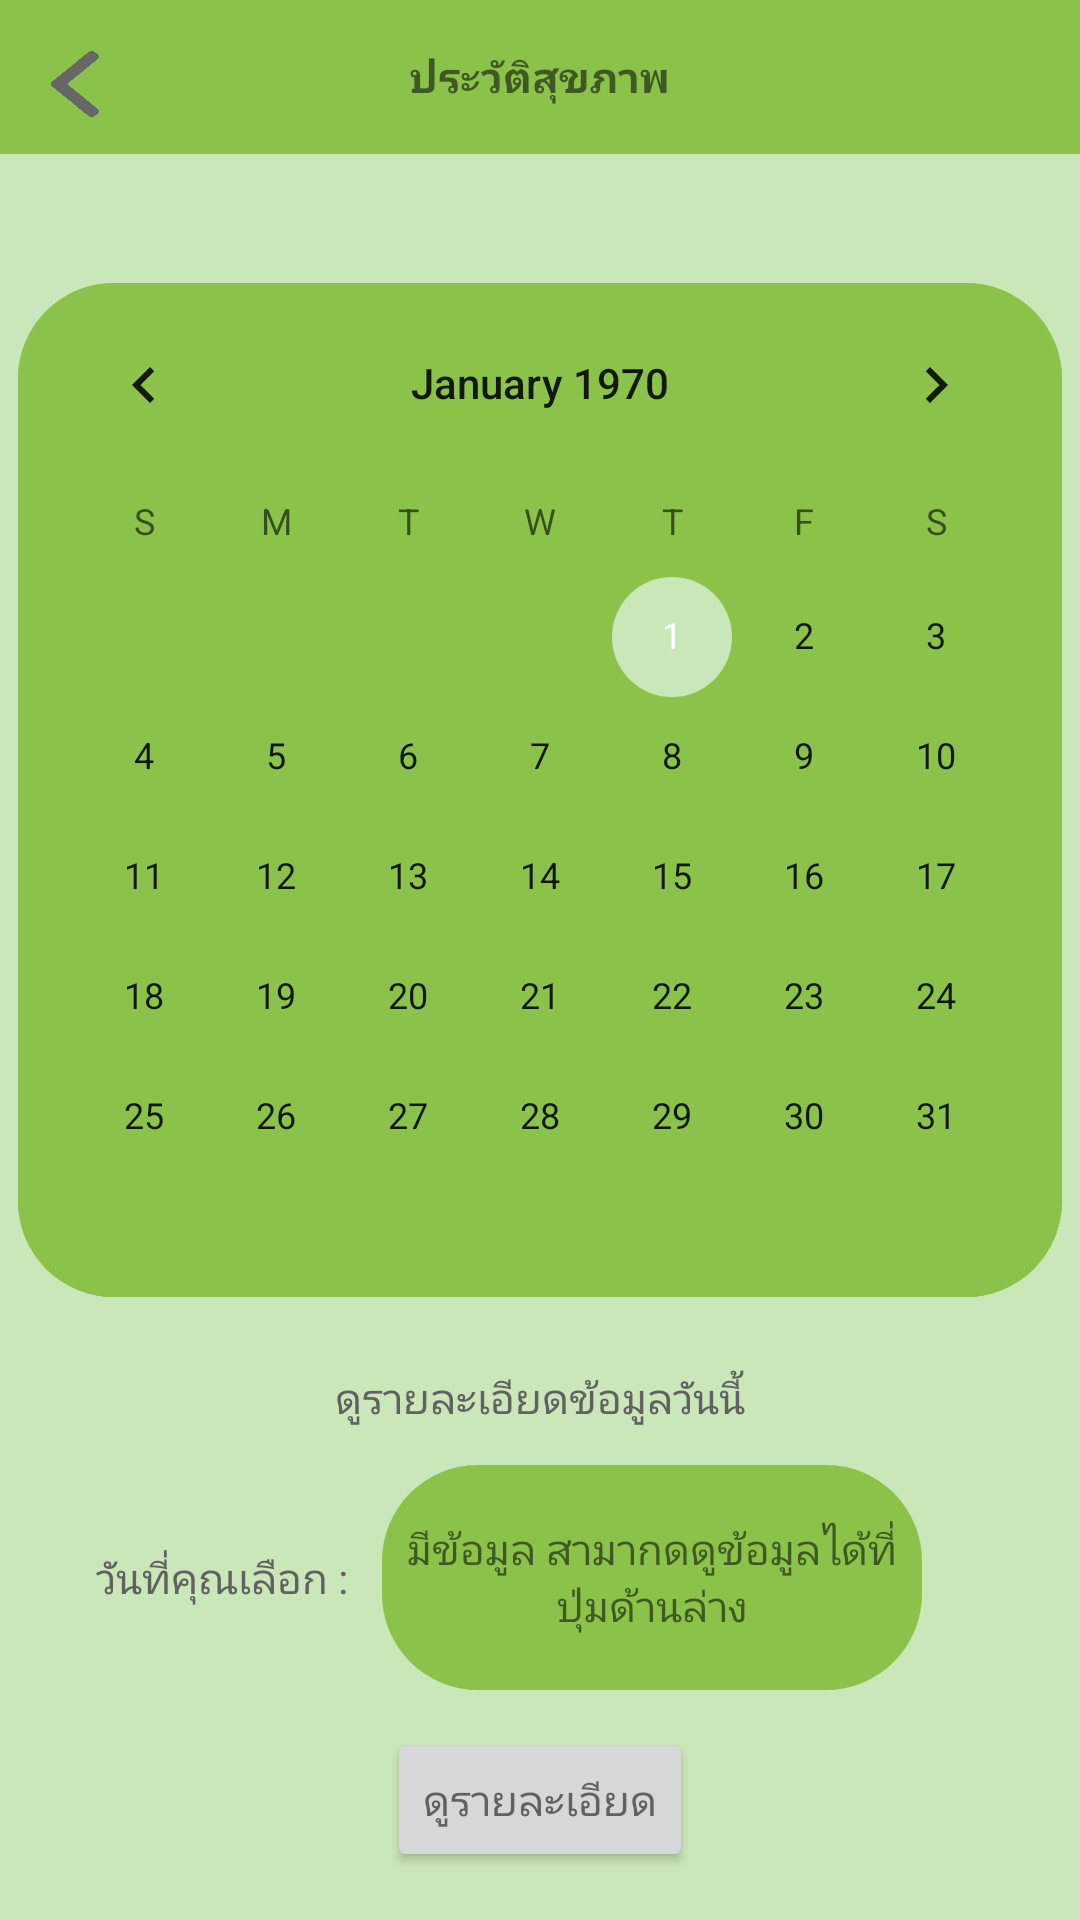

Where icons sit on this 1080×1920 app screen, as (x1, y1, x2, y2):
left arrow: (51, 51, 99, 117)
